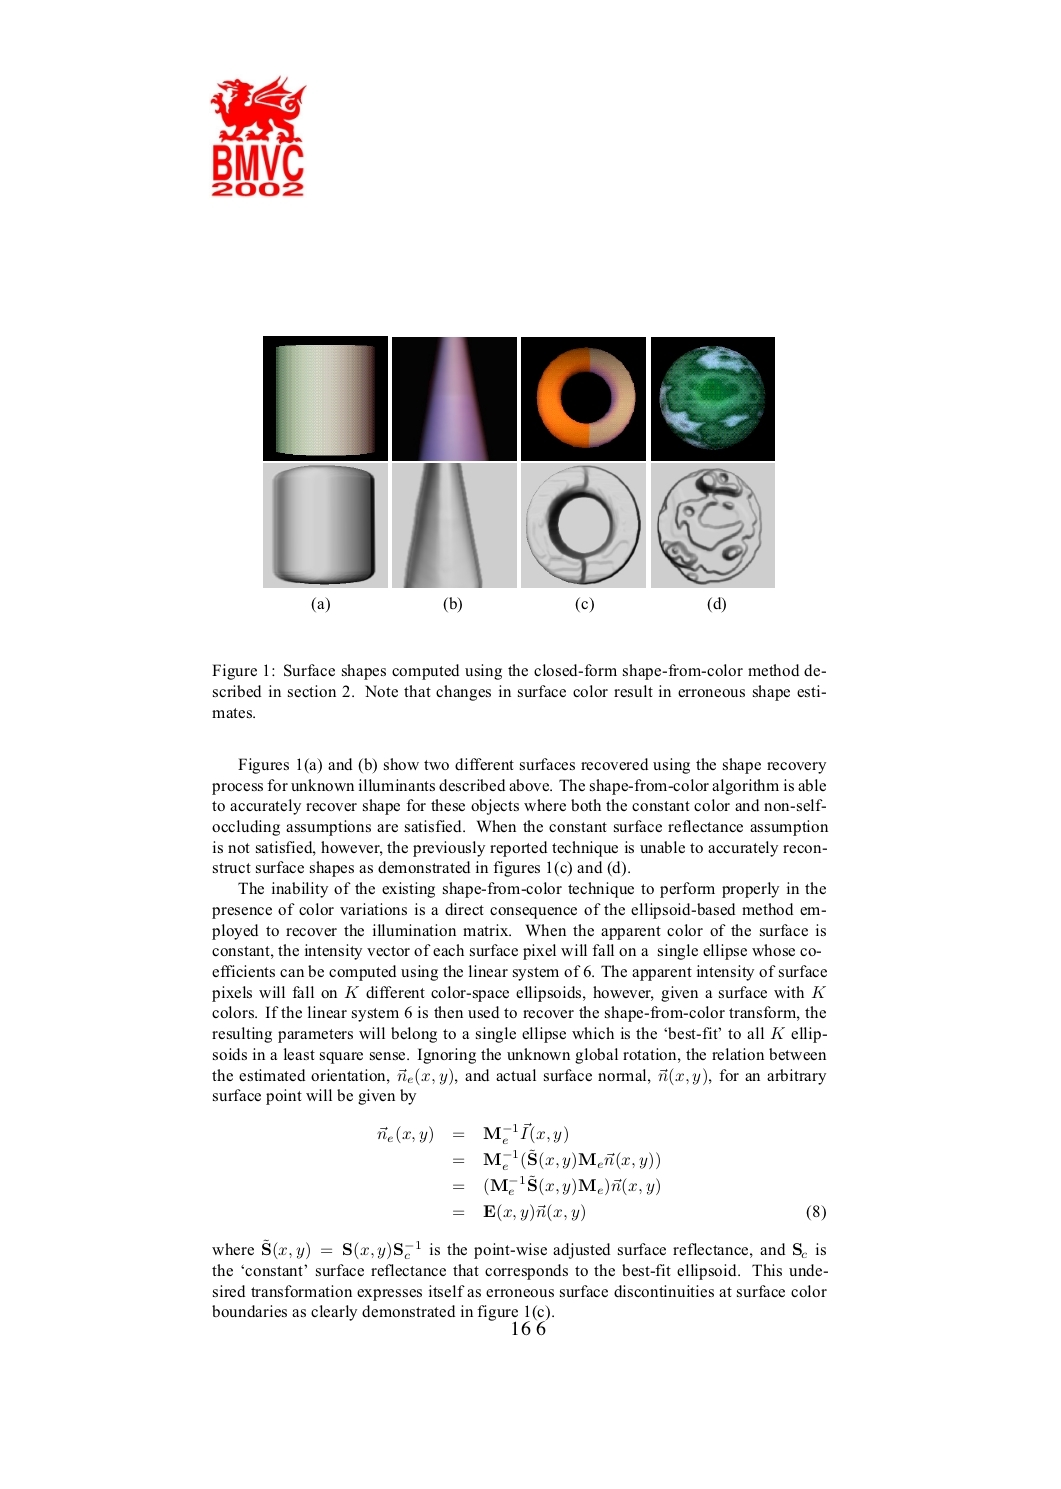figure: (263, 336, 387, 463), (521, 338, 645, 464), (392, 463, 516, 587), (392, 338, 516, 460), (521, 463, 645, 585), (263, 465, 387, 587), (651, 338, 770, 463), (651, 467, 773, 587), (210, 73, 305, 197)
formula: (454, 1202, 824, 1222), (454, 1148, 659, 1170), (454, 1174, 659, 1196), (377, 1122, 567, 1143)
